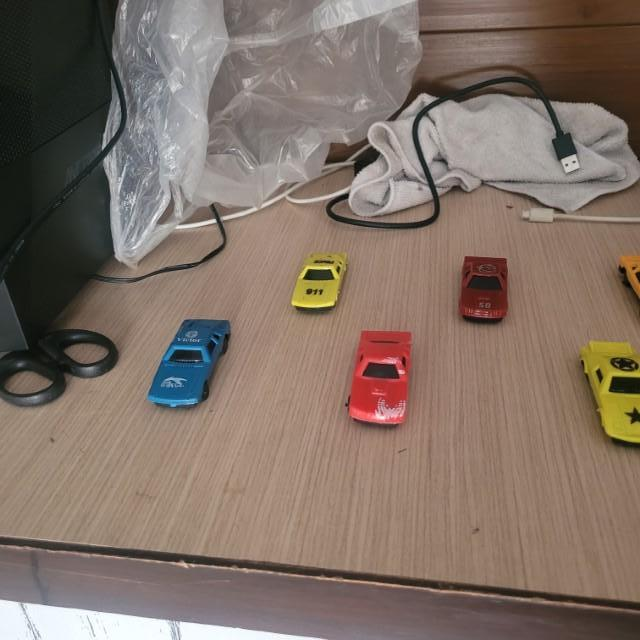car: (147, 315, 233, 412), (343, 327, 415, 430), (288, 251, 350, 317), (454, 253, 508, 323)
